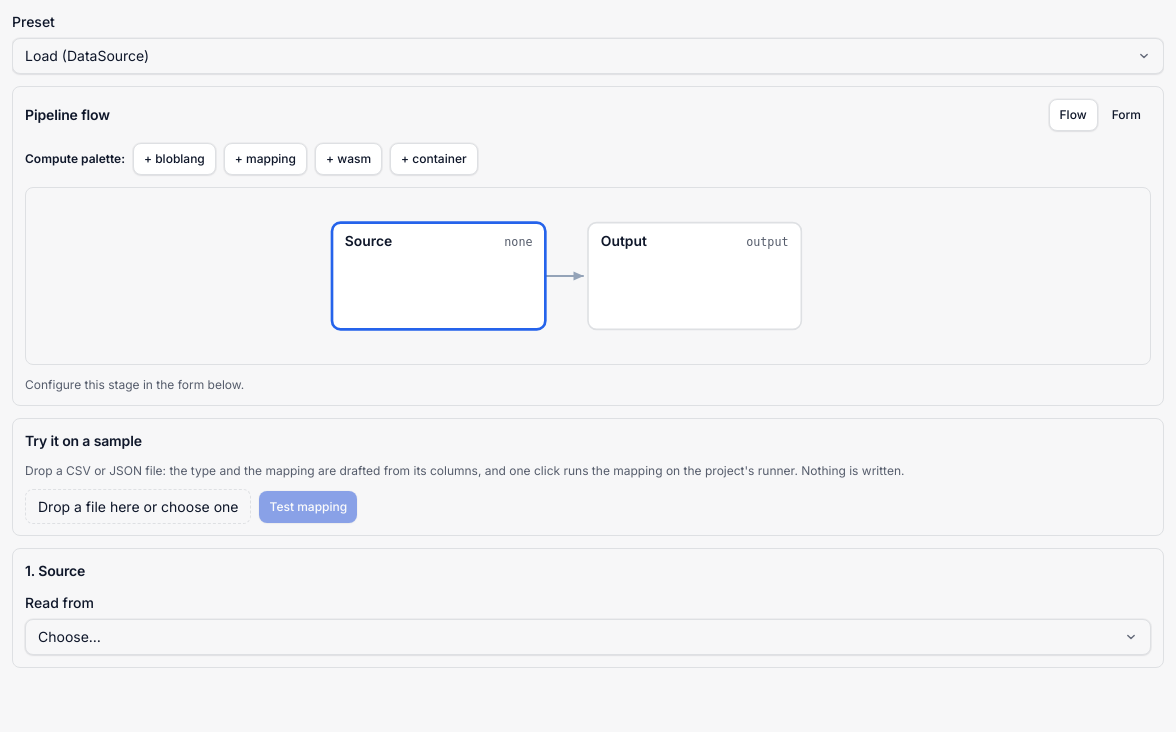
Test case: PipelineStudio KPI preset › shows an alert when the pipeline test endpoint fails
Select "Analyse (KPI)" in the dropdown labelled "Preset" at x=588, y=56, box [12,38,1164,74]
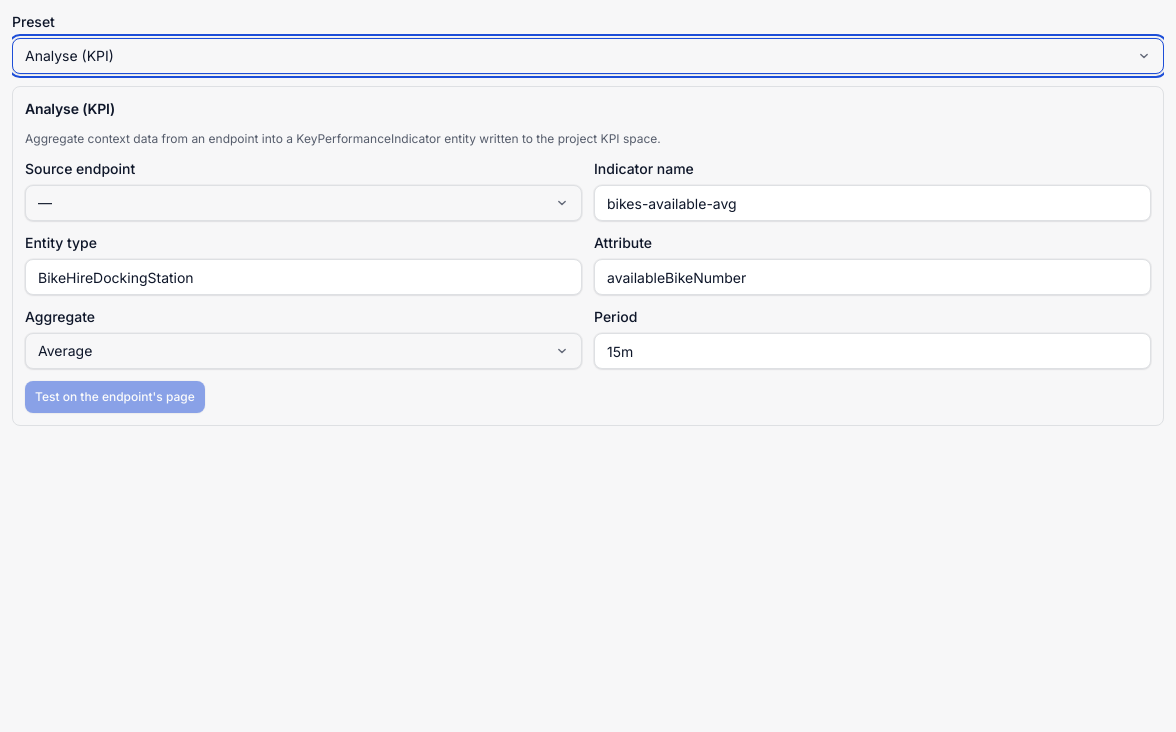
Select "helsinki-all" in the dropdown labelled "Source endpoint" at x=304, y=203, box [25,185,582,221]
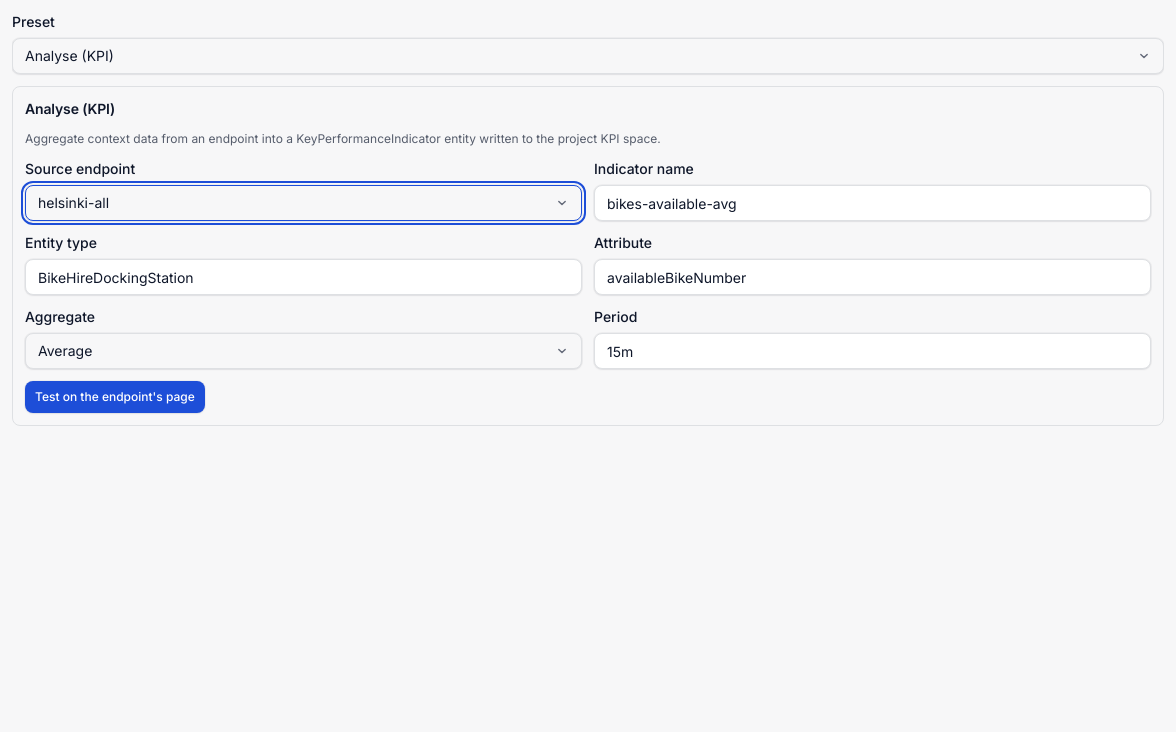
Click the button with test id "studio-kpi-test" at x=115, y=397, box [25,381,205,413]
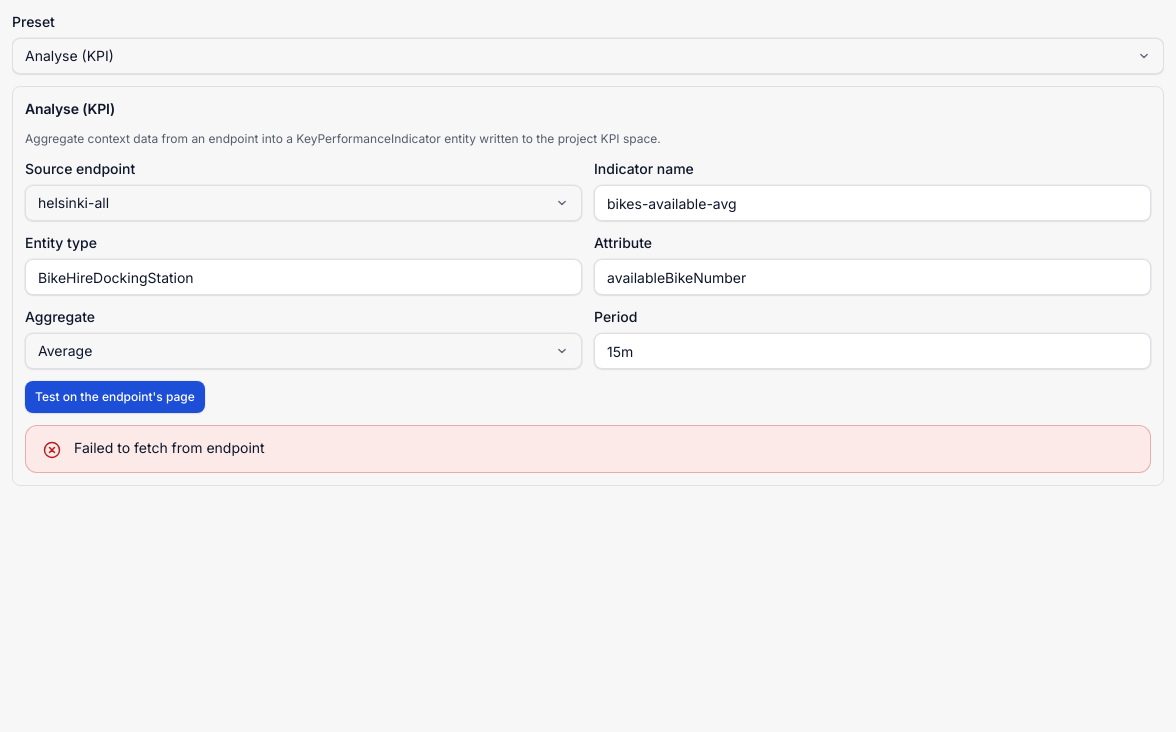
Check: the message reads "Failed to fetch from endpoint", box [74,439,265,456]
